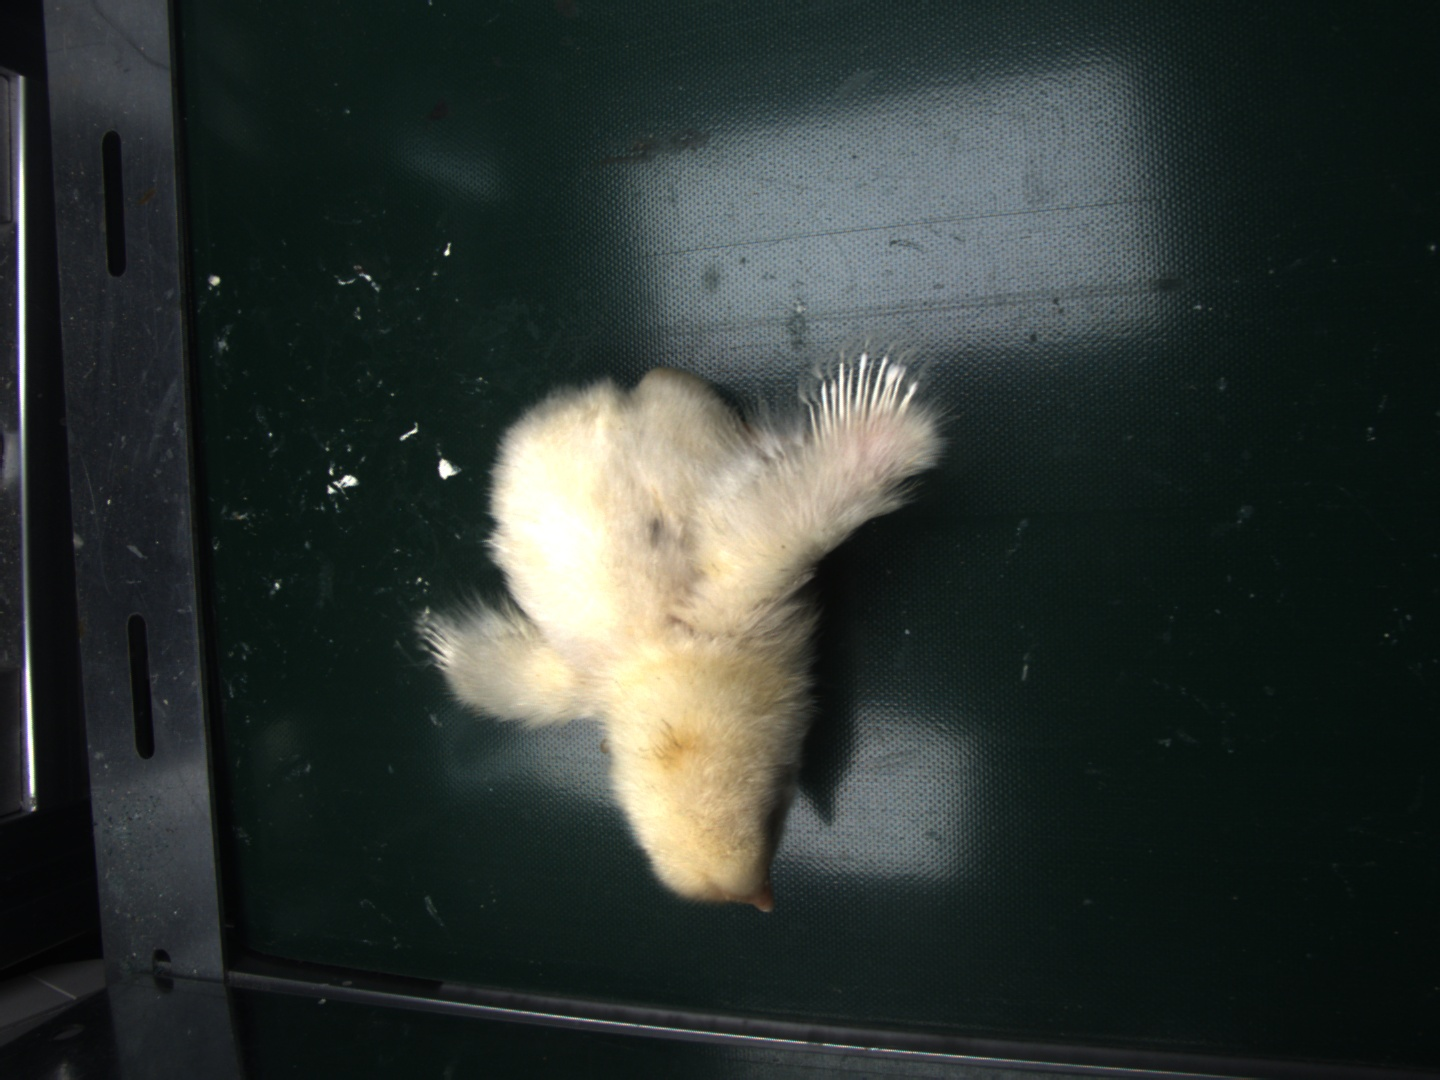male: (811, 352, 924, 434)
